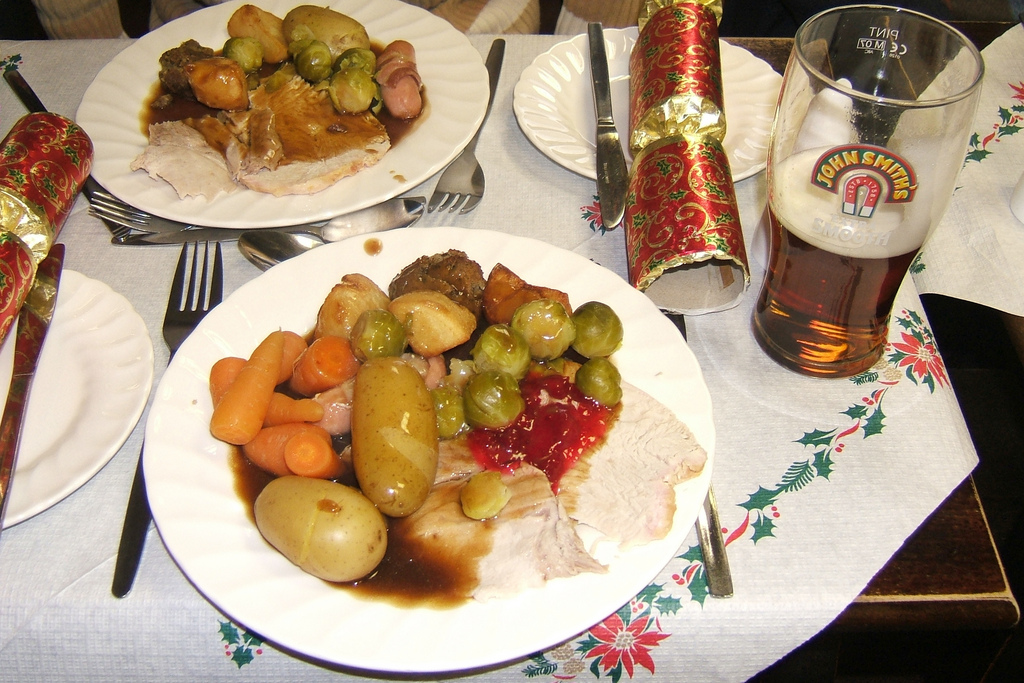boiled potatoes: (346, 343, 444, 517), (257, 477, 376, 575), (320, 265, 378, 343), (397, 295, 472, 352), (286, 9, 373, 57)
